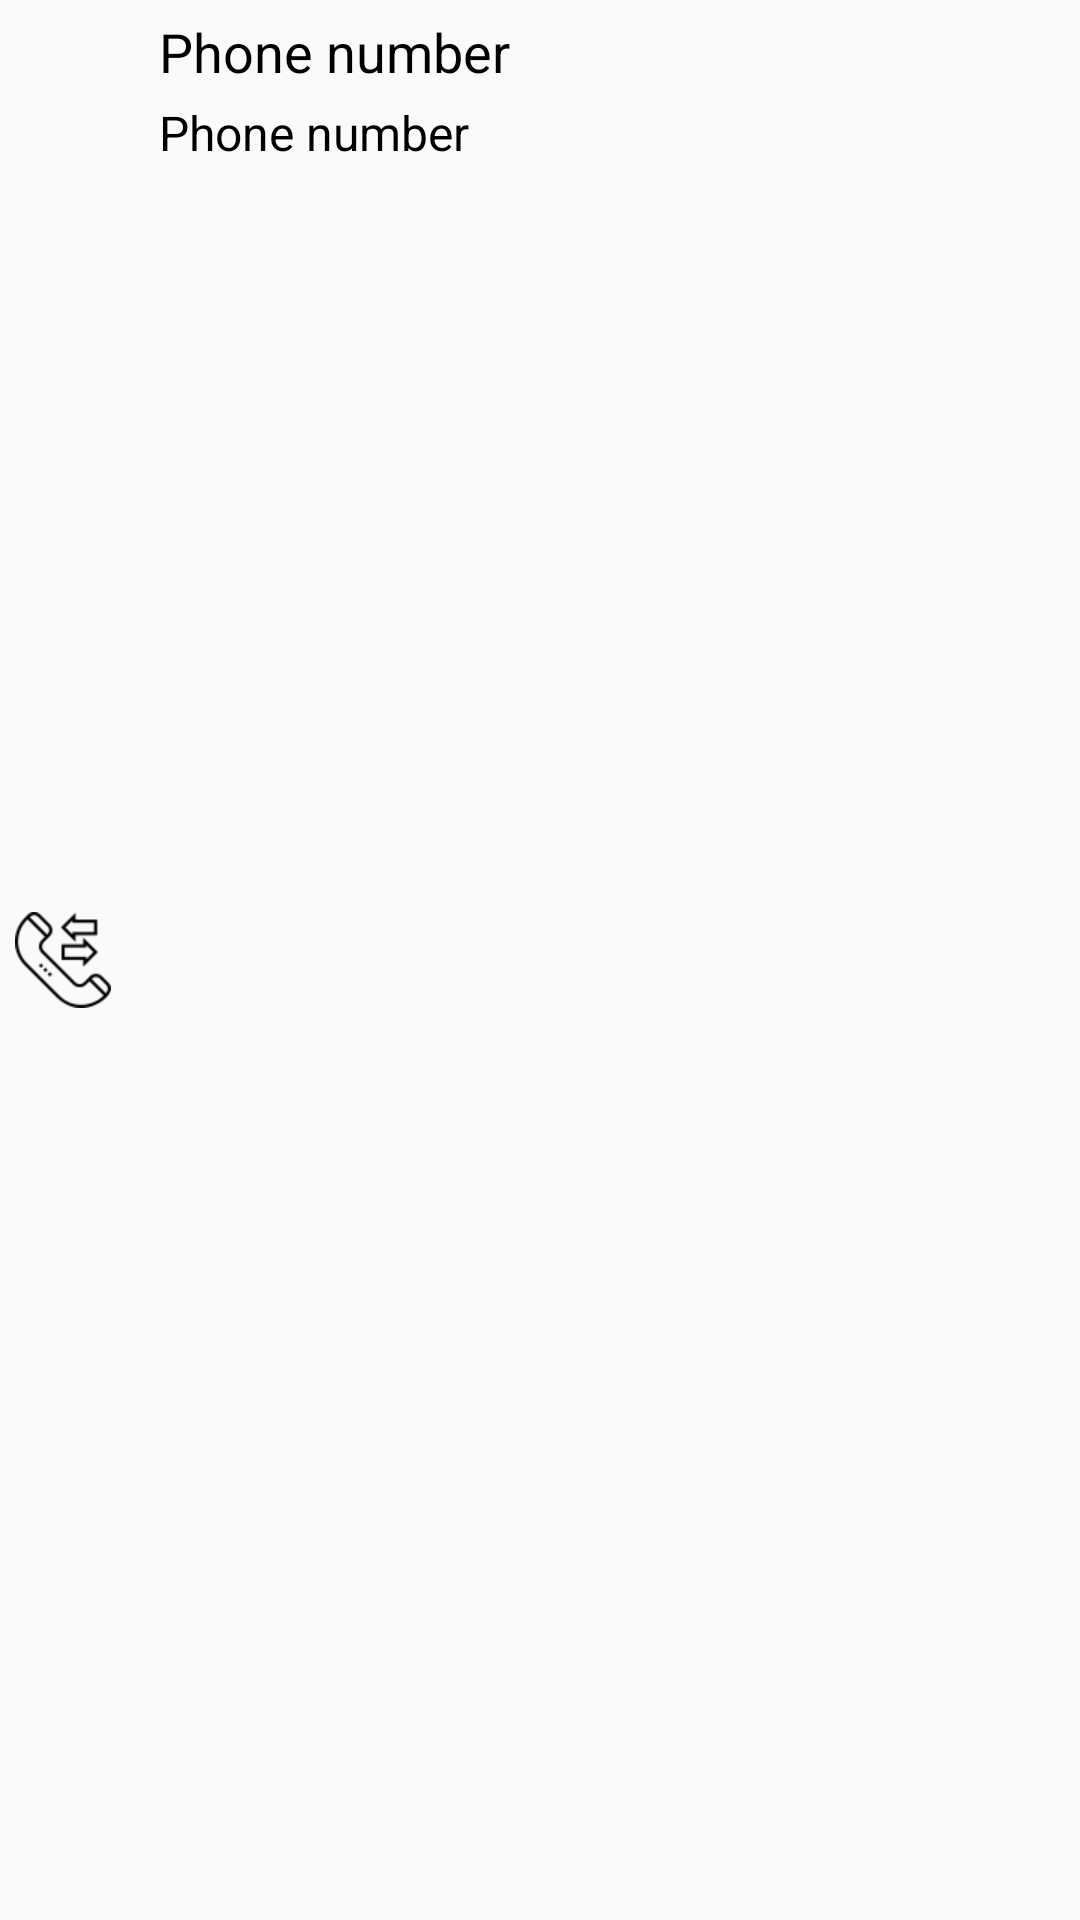

Icon click points for this 1080px×1920px phone screenshot, format (x,y):
call: (63,960)
